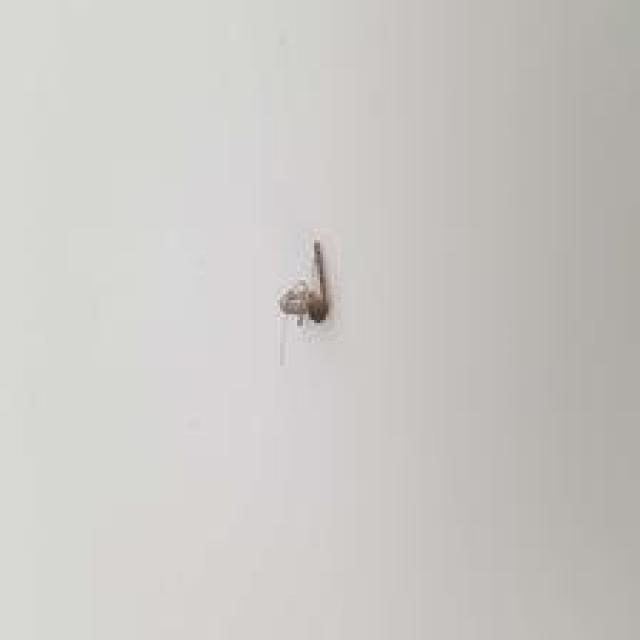Culex: (274, 237, 332, 366)
